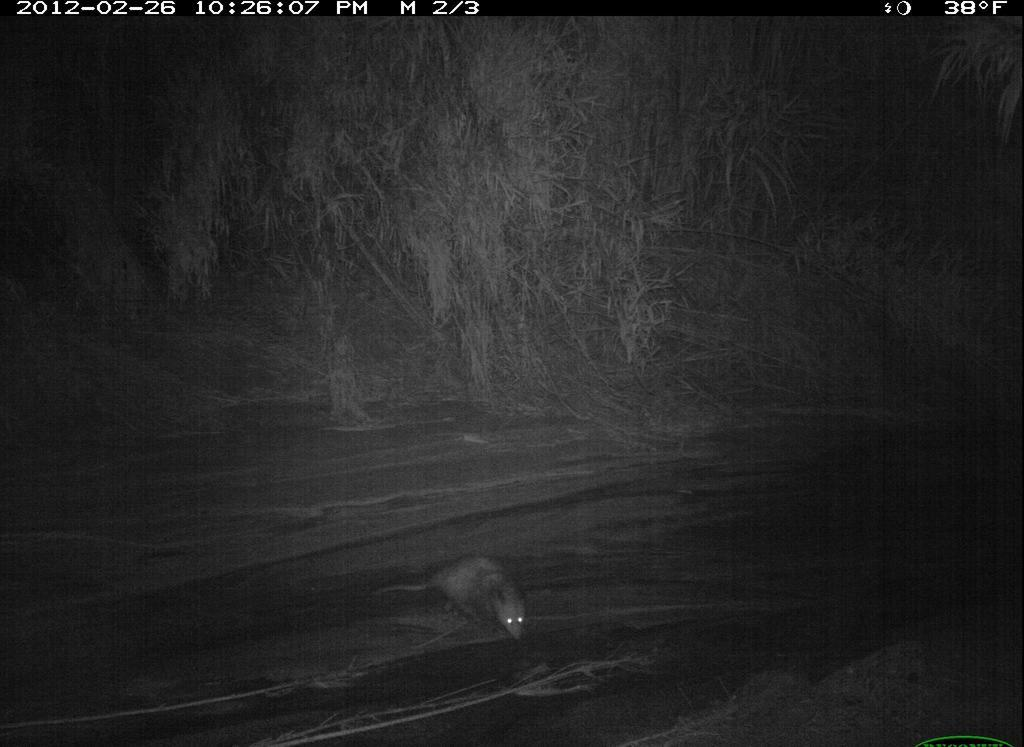opossum: (373, 551, 548, 658)
